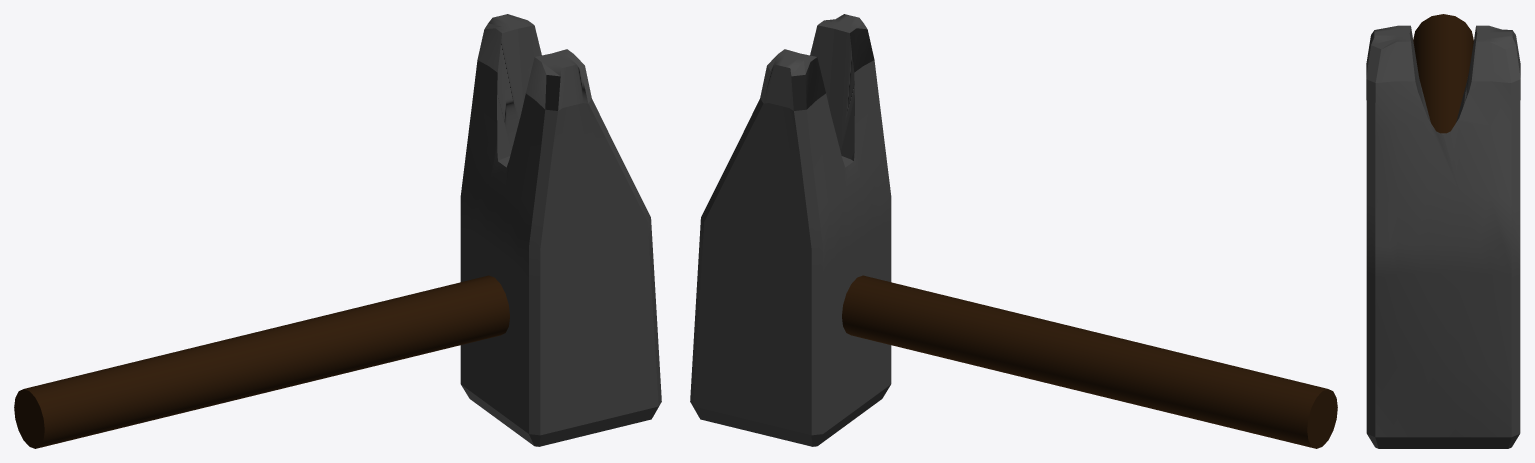
Rendered from Marteau_Item.FBX.
3 views of the same model, side by side, from view 1: azimuth 30°, elevation 25°; view 2: azimuth 150°, elevation 25°; view 3: azimuth 270°, elevation 25° (orthographic).
Parts seen in each view (by area): view 1: Marteau; view 2: Marteau; view 3: Marteau.
Part boxes in pixels (x1=…): Marteau: x1=14, y1=14, x2=661, y2=448; Marteau: x1=690, y1=14, x2=1337, y2=448; Marteau: x1=1366, y1=14, x2=1520, y2=448.
Size of the model in its own units: 113 by 25.15 by 67.12.
